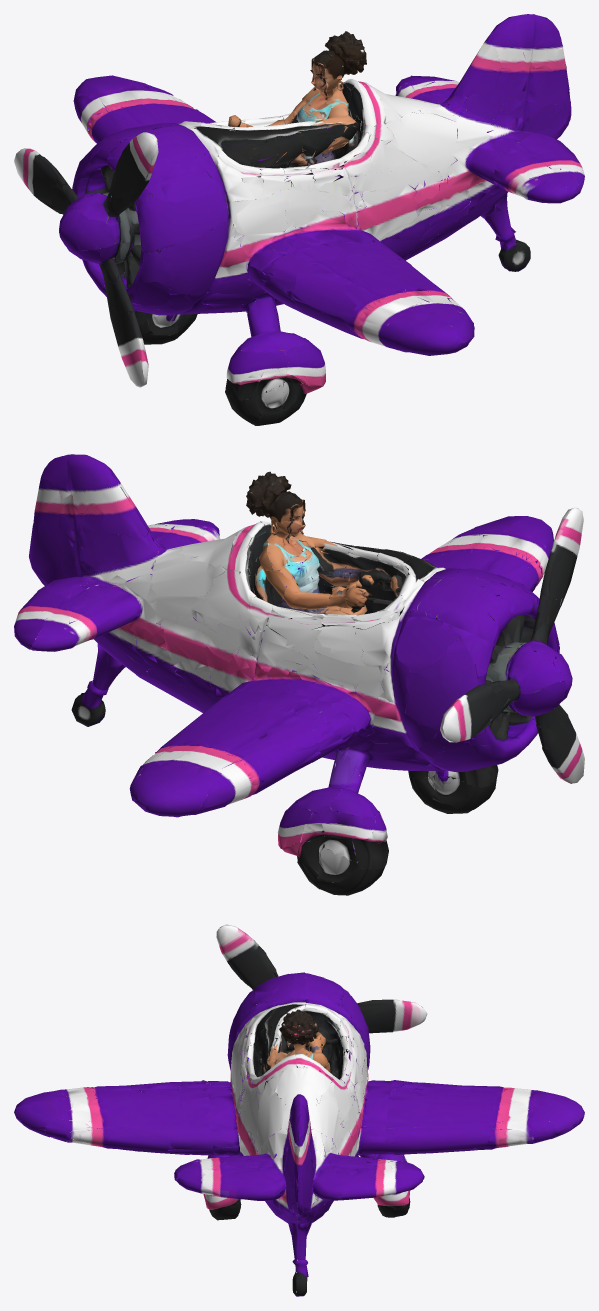
3 renders of one model, top to bottom at view 1: azimuth 30°, elevation 25°; view 2: azimuth 150°, elevation 25°; view 3: azimuth 270°, elevation 25°, orthographic. The views are drawn at different scales.
Visible parts, largest first — view 1: Mesh_0; view 2: Mesh_0; view 3: Mesh_0.
Boxes of the visible parts, <box> form: Mesh_0: <box>14,14,584,425</box>; Mesh_0: <box>14,454,584,895</box>; Mesh_0: <box>14,924,584,1296</box>.
Size of the model in its own units: 3.6 by 2.16 by 4.44.
1 material, 1 textured.
